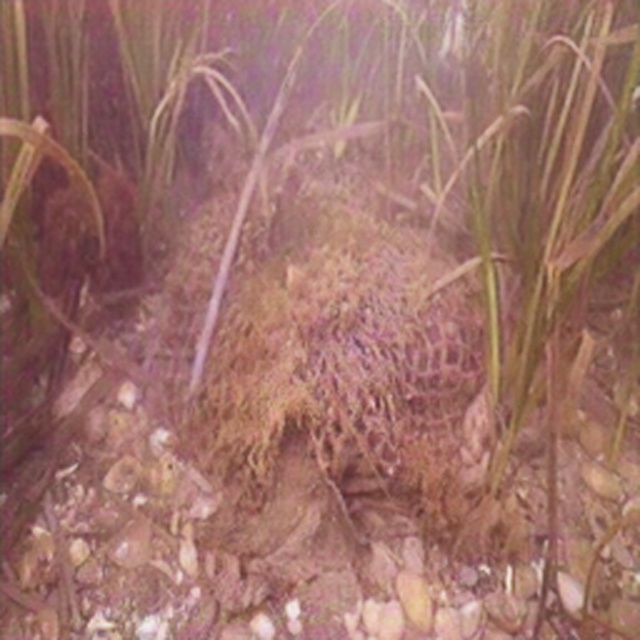mine: (161, 166, 484, 464)
